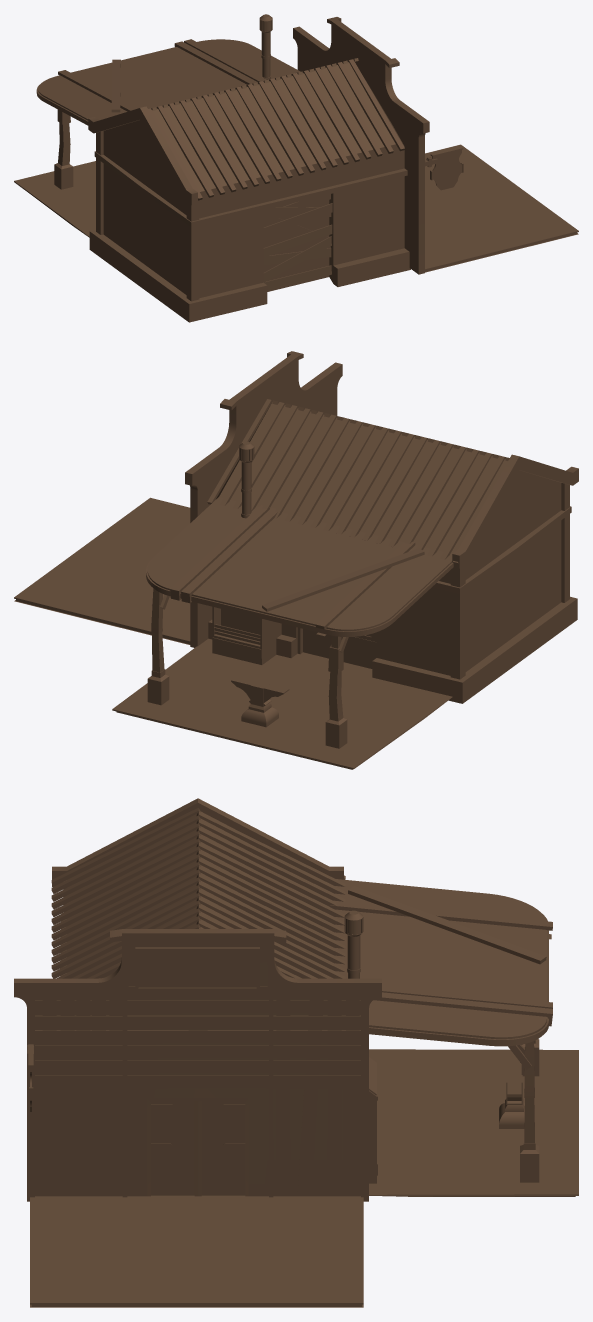
Rendered from smith_building.fbx.
The picture shows the model from 3 angles, top to bottom: view 1: azimuth 30°, elevation 25°; view 2: azimuth 150°, elevation 25°; view 3: azimuth 270°, elevation 25°; orthographic projection. The views are drawn at different scales.
Parts seen in each view (by area): view 1: smith_build; view 2: smith_build; view 3: smith_build.
Boxes of the visible parts, x1,y1,x2,y2 form: smith_build: (14,14,578,322); smith_build: (14,351,578,769); smith_build: (14,798,578,1307).
Size of the model in its own units: 25.99 by 12.59 by 23.67.
